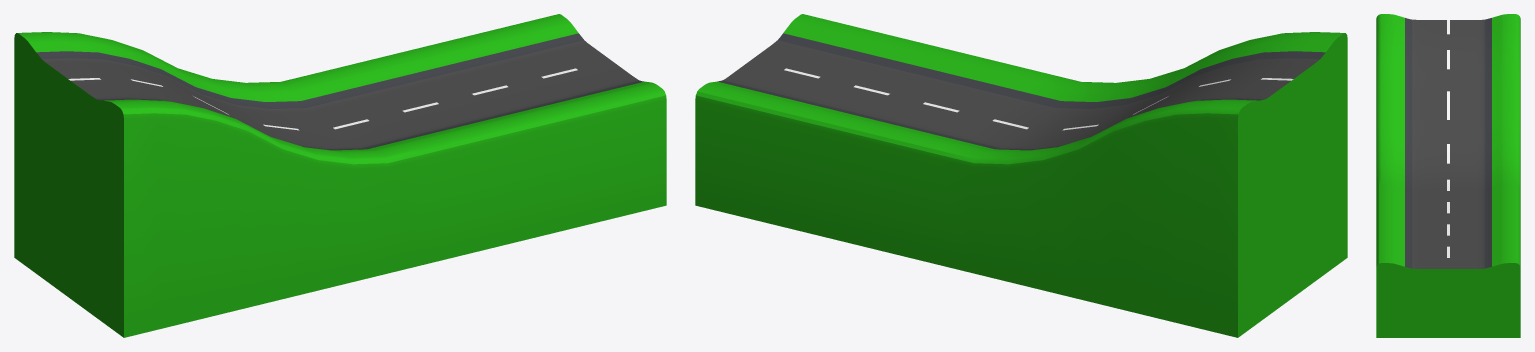
The model's file is Дорожка для самолетов.fbx.
The picture shows the model from 3 angles, left to right: view 1: azimuth 30°, elevation 25°; view 2: azimuth 150°, elevation 25°; view 3: azimuth 270°, elevation 25°; orthographic projection. The views are drawn at different scales.
Visible parts, largest first — view 1: Cube.003; view 2: Cube.003; view 3: Cube.003.
Part boxes in pixels (x1=…): Cube.003: x1=14, y1=14, x2=666, y2=337; Cube.003: x1=695, y1=14, x2=1347, y2=337; Cube.003: x1=1376, y1=14, x2=1520, y2=337.
Size of the model in its own units: 2000 by 800 by 700.
